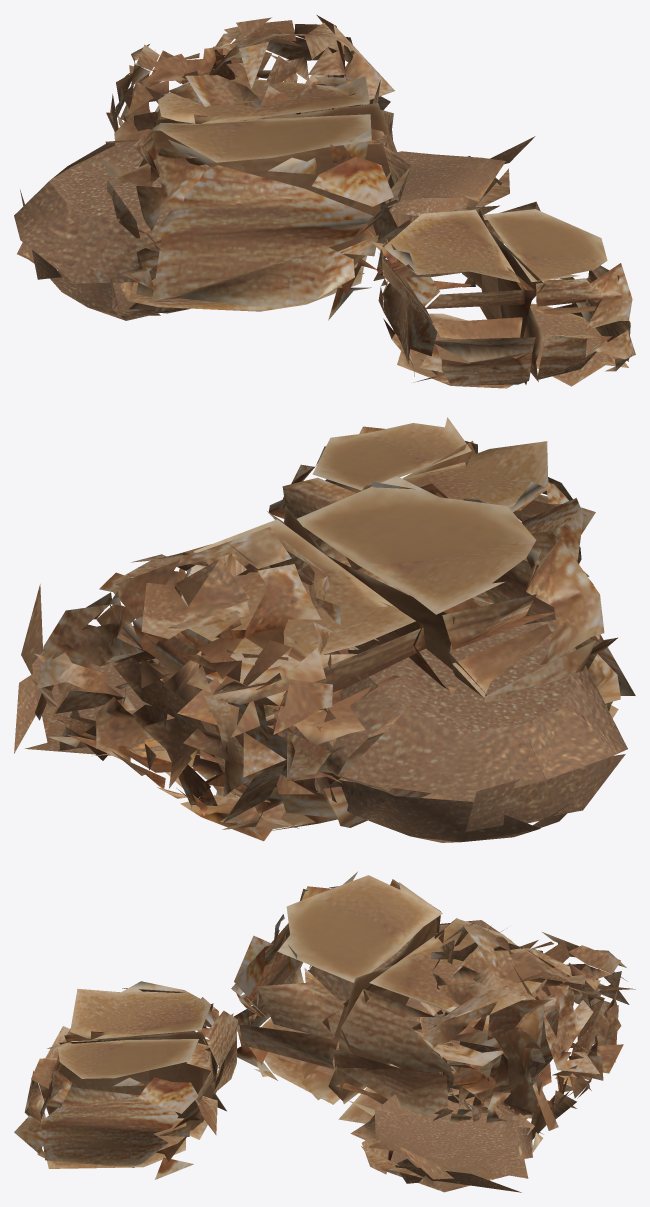
File: desert_pebble_heap_lod1.glb
3 renders of one model, top to bottom at view 1: azimuth 30°, elevation 25°; view 2: azimuth 150°, elevation 25°; view 3: azimuth 270°, elevation 25°, orthographic. The views are drawn at different scales.
Parts seen in each view (by area): view 1: desert_pebble_heap.001; view 2: desert_pebble_heap.001; view 3: desert_pebble_heap.001.
Part boxes in pixels (bbox=[...]): desert_pebble_heap.001: bbox=[14, 15, 635, 388]; desert_pebble_heap.001: bbox=[14, 417, 635, 842]; desert_pebble_heap.001: bbox=[14, 872, 635, 1192].
Size of the model in its own units: 2.56 by 1.11 by 3.04.
4 materials, 4 textured.
